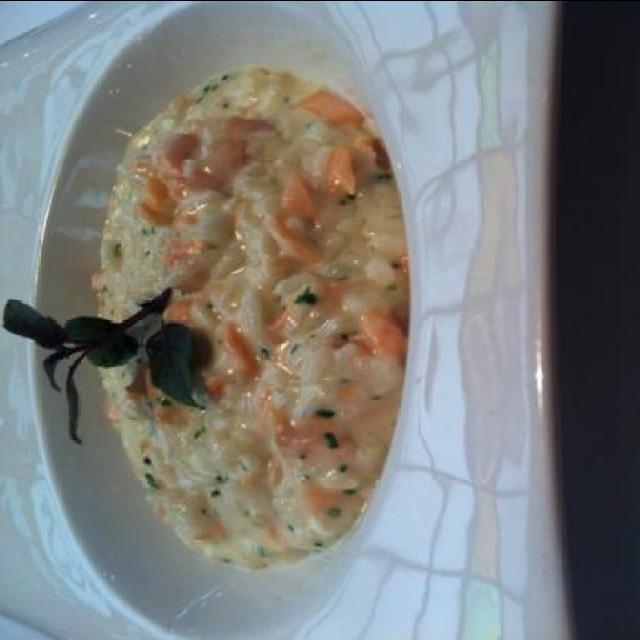Risotto: (88, 59, 434, 578)
